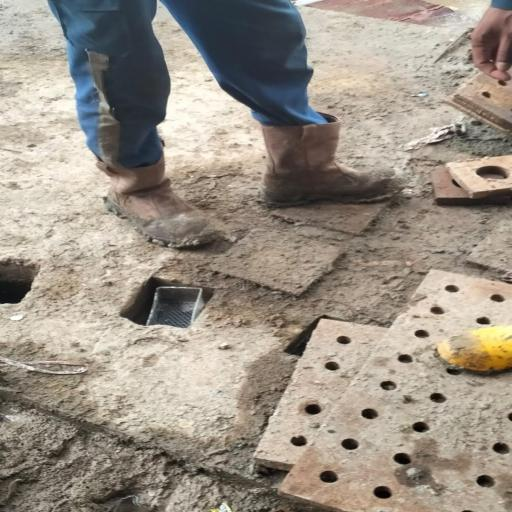safety_shoe: (89, 155, 231, 253), (256, 127, 414, 210)
